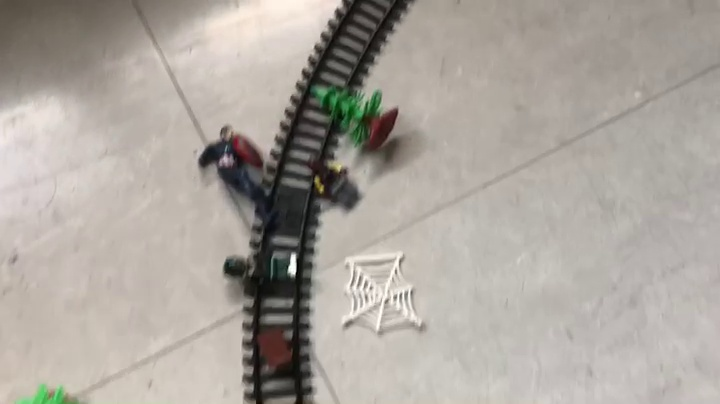people: (196, 123, 277, 231), (220, 246, 302, 295), (306, 156, 365, 212)
tree: (310, 83, 402, 154)
web: (342, 253, 422, 333)
